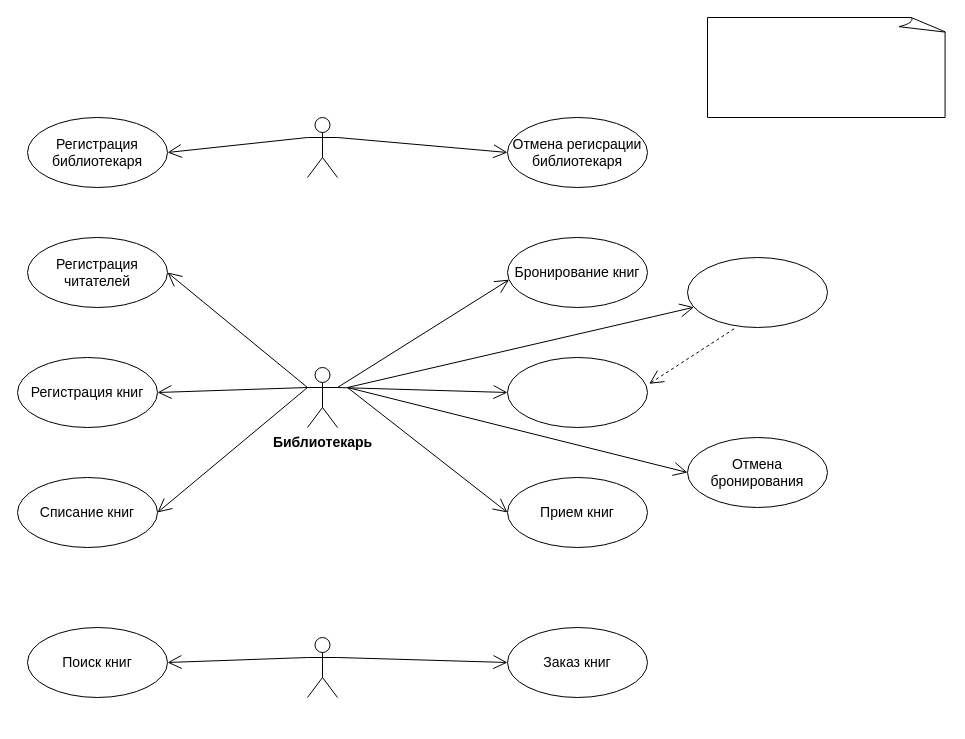
Image size: 965x739. Some labels were removed from this diagram. Each missing label, with the centre of its shape:
"Администратор" goes at point 322,147.
"Варианты использования системы" goes at point 827,67.
"Выдача бронированных книг" goes at point 757,292.
"Выдача книг" goes at point 577,392.
"Читатель" goes at point 322,667.
